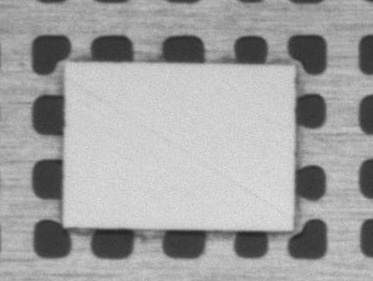DIE_CRACK: (70, 74, 287, 221)
